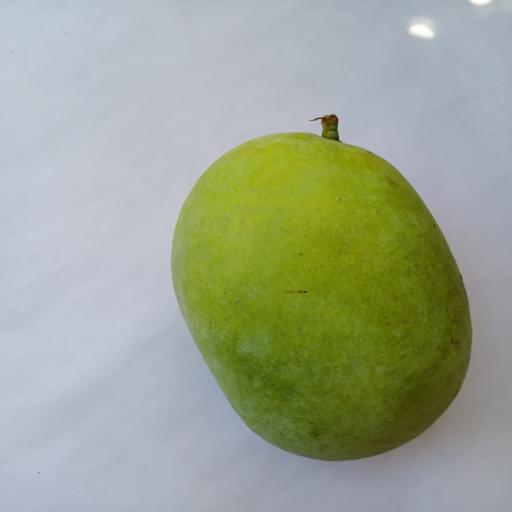mango-unripe: (151, 96, 486, 468)
